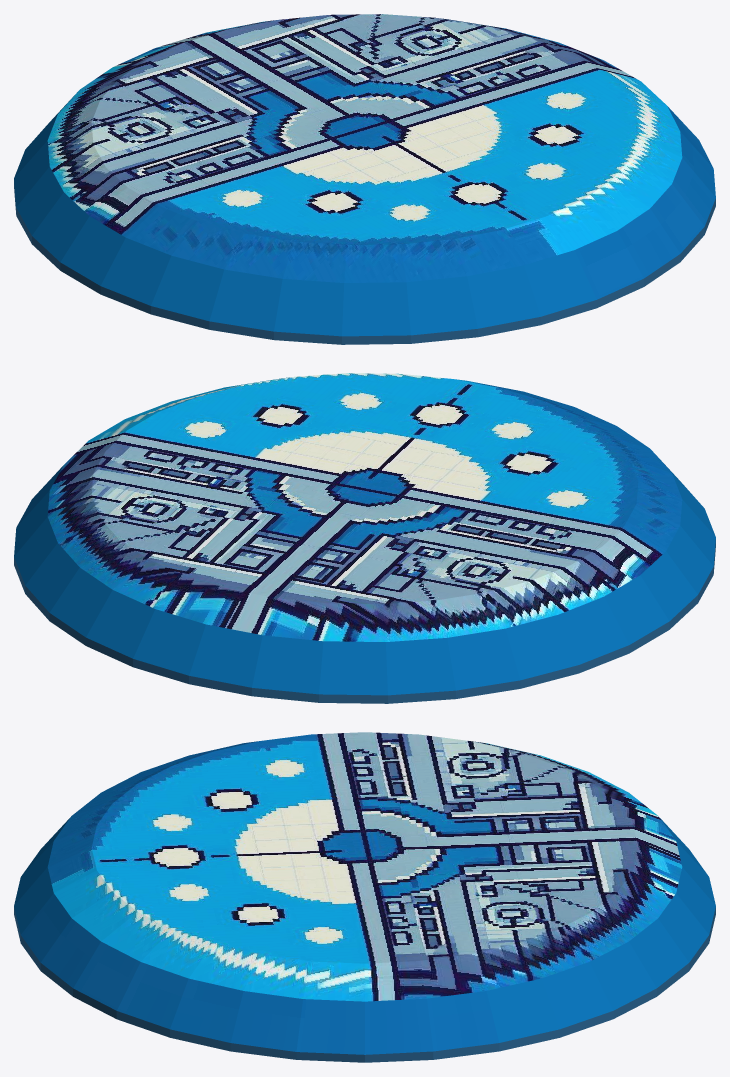
File: DiscTech.glb
3 renders of one model, top to bottom at view 1: azimuth 30°, elevation 25°; view 2: azimuth 150°, elevation 25°; view 3: azimuth 270°, elevation 25°, orthographic.
Parts seen in each view (by area): view 1: Plane; view 2: Plane; view 3: Plane.
Boxes of the visible parts, x1,y1,x2,y2 form: Plane: (14, 14, 715, 344); Plane: (14, 373, 715, 703); Plane: (14, 732, 715, 1062).
Bounding box in the file's own units: 2 × 0.2098 × 2.
Materials: 1 (1 with a texture image).
